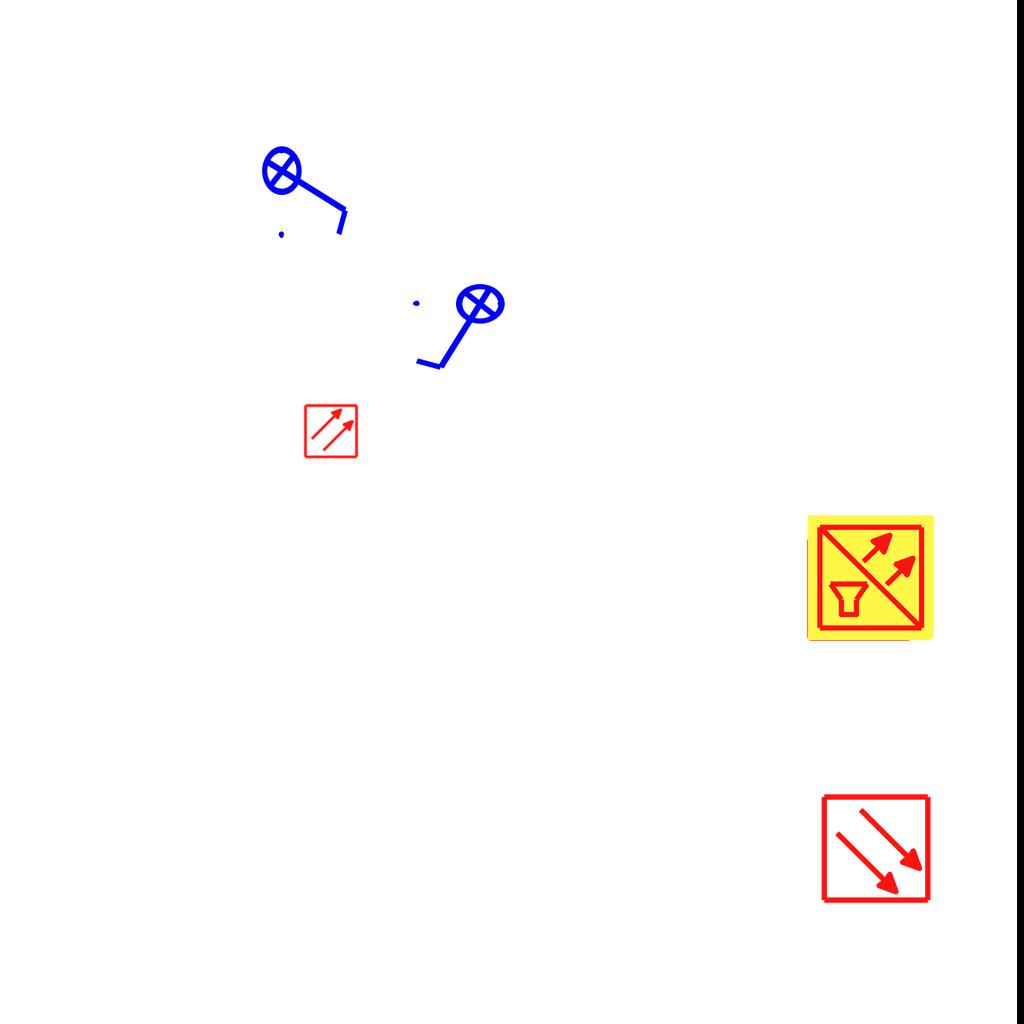Ausschalter_beleuchtet: (407, 282, 519, 378), (260, 132, 356, 244)
OKW_Multisensormelder_(Kombination_optischer_Rauch-Kahlenmonoxid_Waerme-Melder): (805, 512, 937, 644)
RMO_Rauchmelder_optischer: (820, 792, 933, 905), (303, 403, 359, 459)
